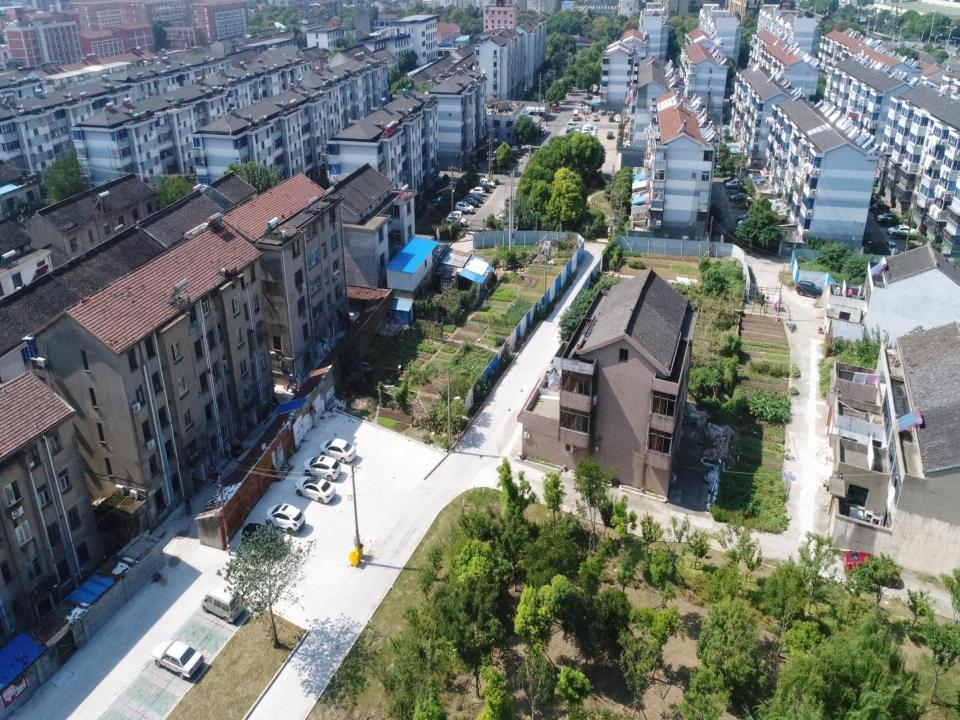car: (842, 548, 902, 590), (149, 639, 205, 679), (239, 521, 285, 558), (294, 475, 338, 506), (264, 502, 306, 533), (300, 453, 340, 481), (319, 439, 357, 463), (795, 278, 827, 298), (887, 223, 915, 238), (444, 214, 466, 228), (736, 211, 759, 224), (454, 200, 474, 214), (737, 218, 758, 231), (876, 211, 898, 223), (883, 239, 899, 255), (730, 191, 751, 203), (725, 178, 743, 189), (465, 194, 483, 204), (479, 178, 495, 188), (448, 210, 462, 221), (462, 197, 479, 206), (469, 187, 485, 196), (566, 121, 582, 129), (476, 184, 490, 193), (582, 123, 596, 131), (582, 127, 594, 136), (582, 130, 595, 138), (566, 126, 580, 133), (566, 128, 578, 136), (507, 147, 519, 155), (607, 131, 614, 138), (592, 113, 598, 121), (608, 114, 614, 122), (616, 114, 621, 122)
van: (200, 584, 243, 624), (572, 108, 579, 121)
